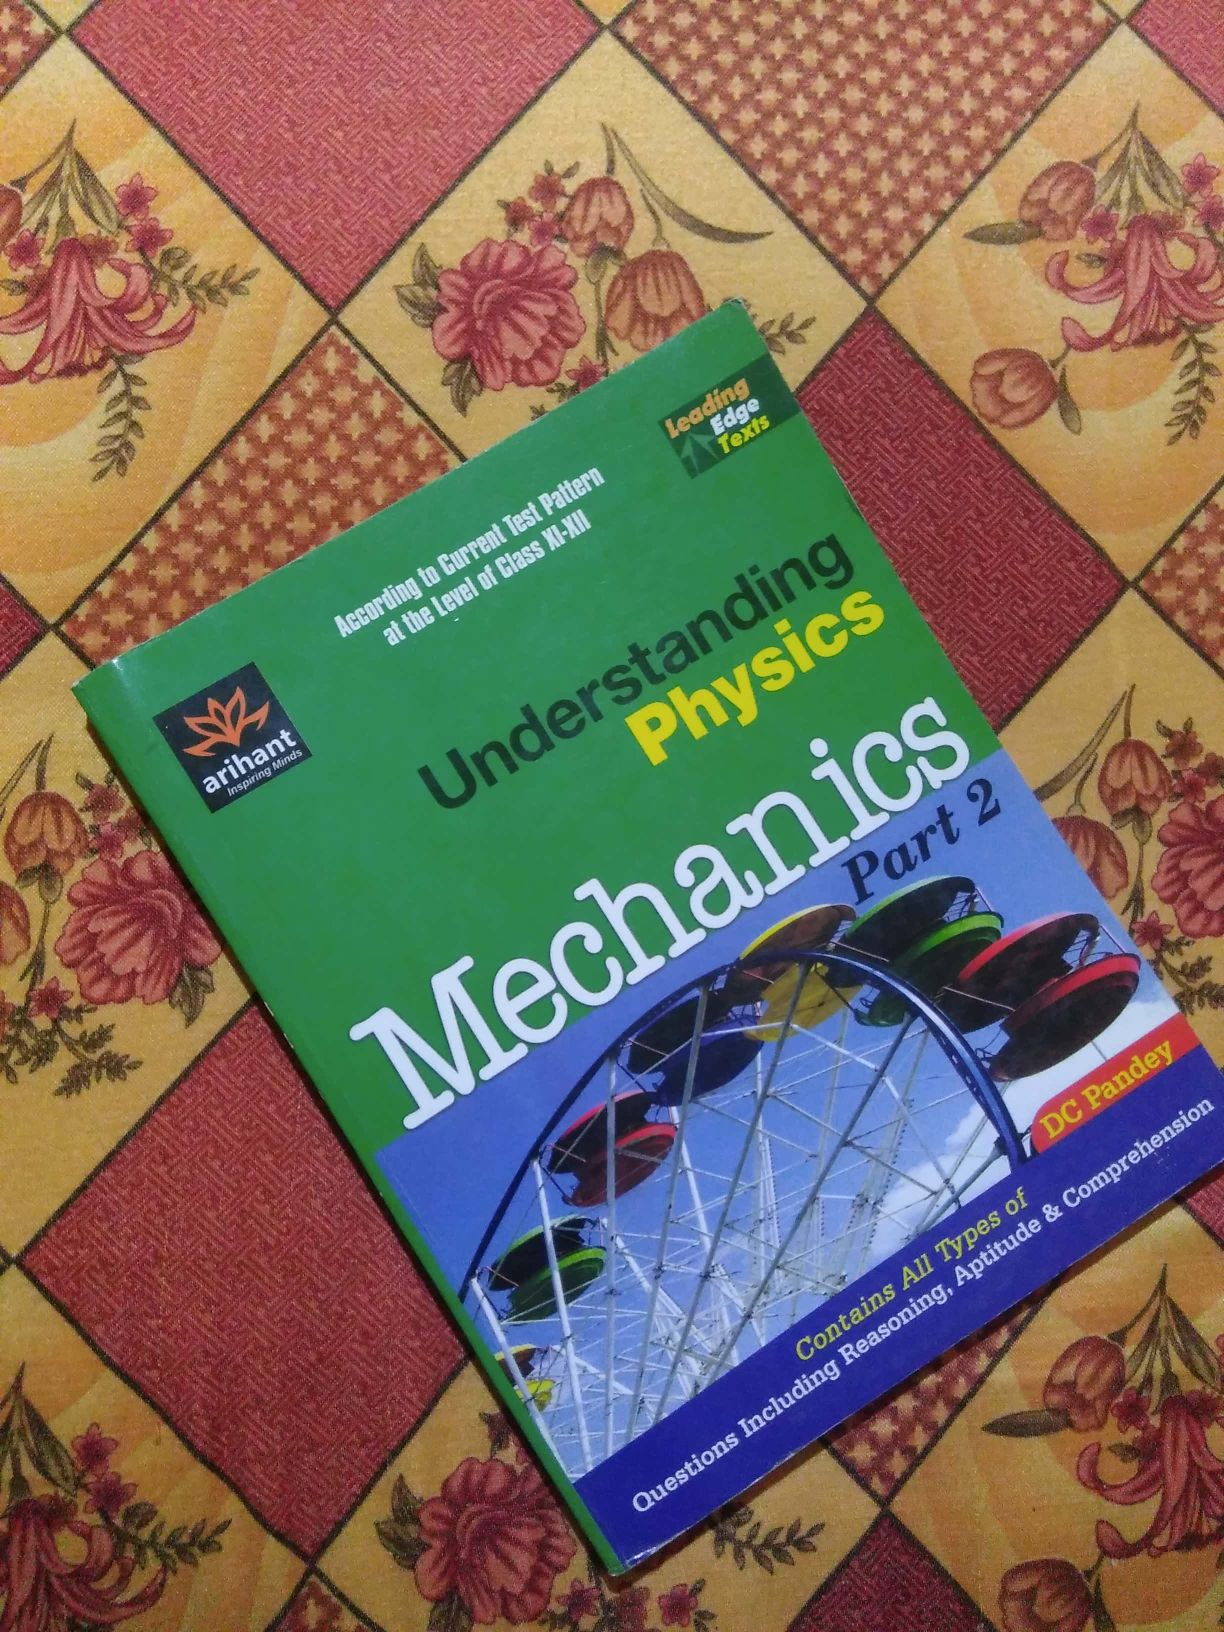mechanics: (27, 346, 1224, 1524)
